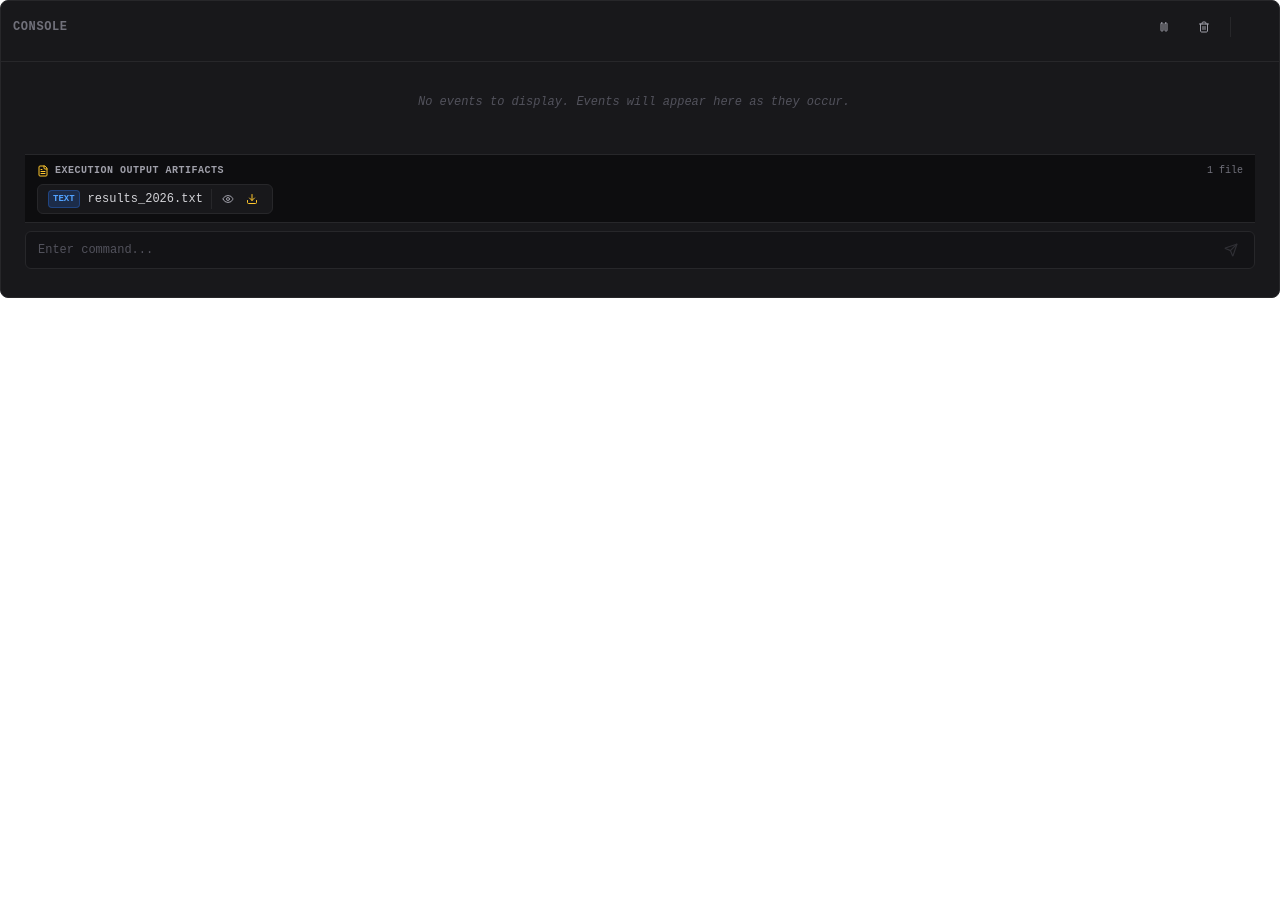
Test: ConsolePanel - Artifacts Integration › should open dialog when previewing an empty artifact (content is empty string)
Click the button titled "Preview artifact content": (228, 199) [218,189,238,209]
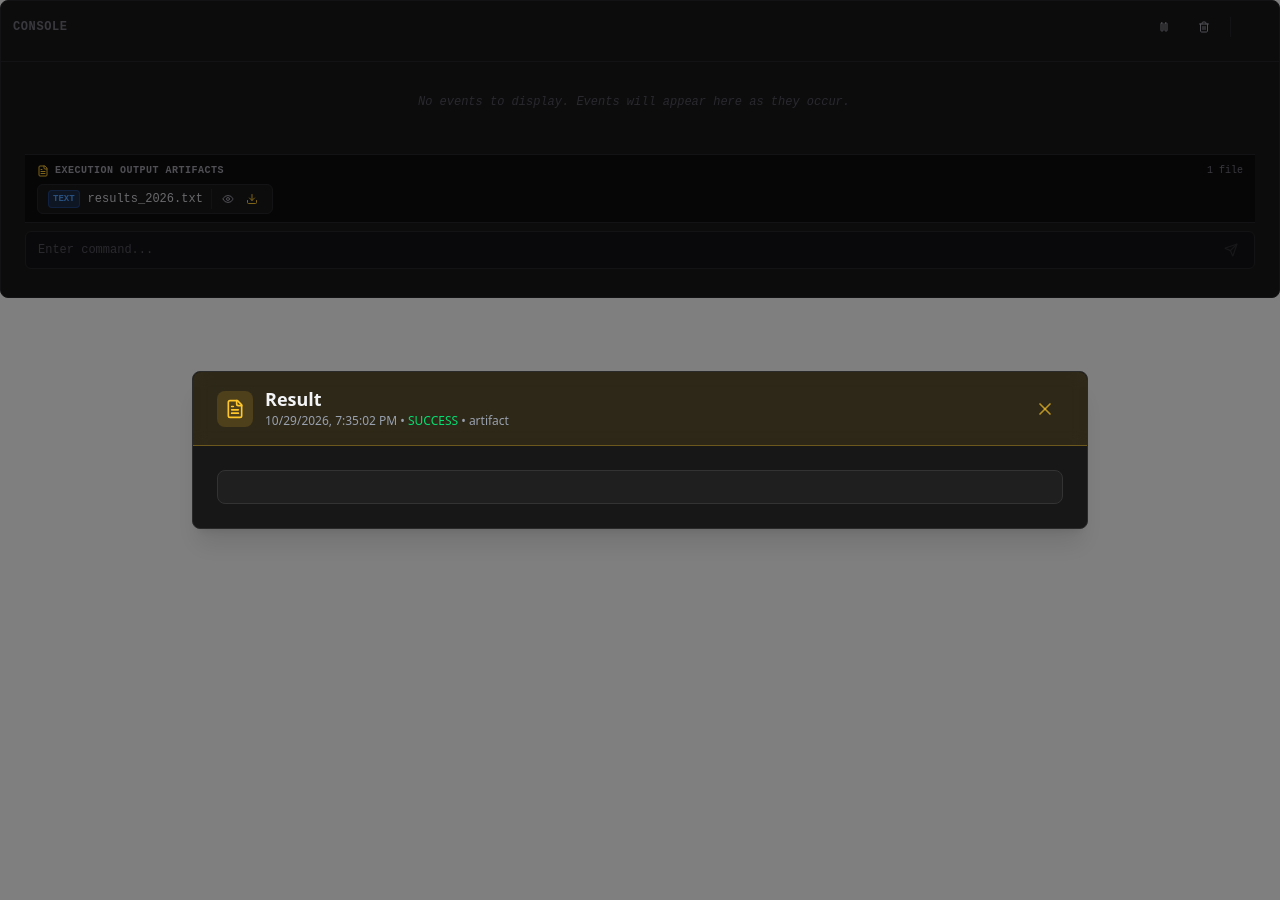
Expected: the heading "Result" is shown, [265,387,322,411]
